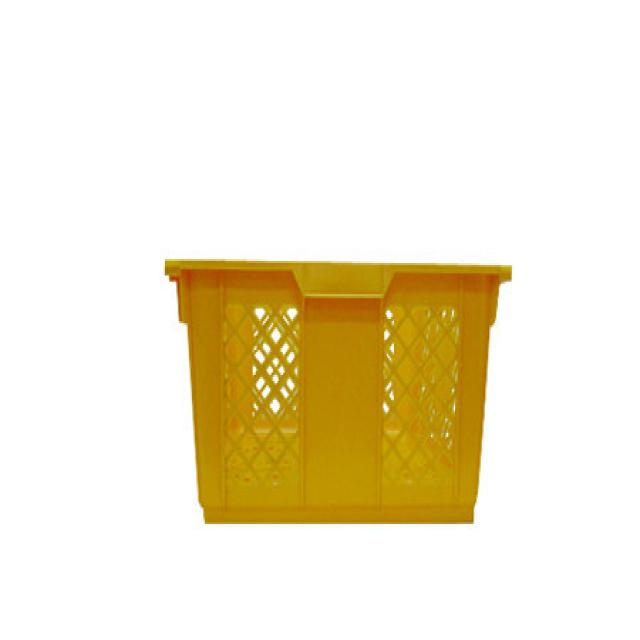basket: (161, 262, 512, 526)
